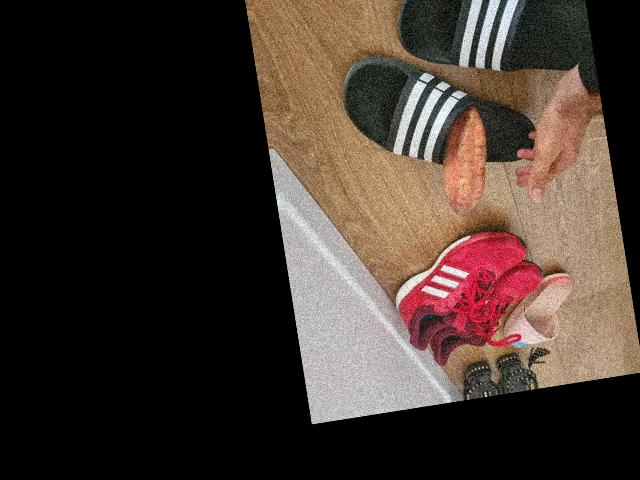sweet_potato: (434, 101, 494, 217)
